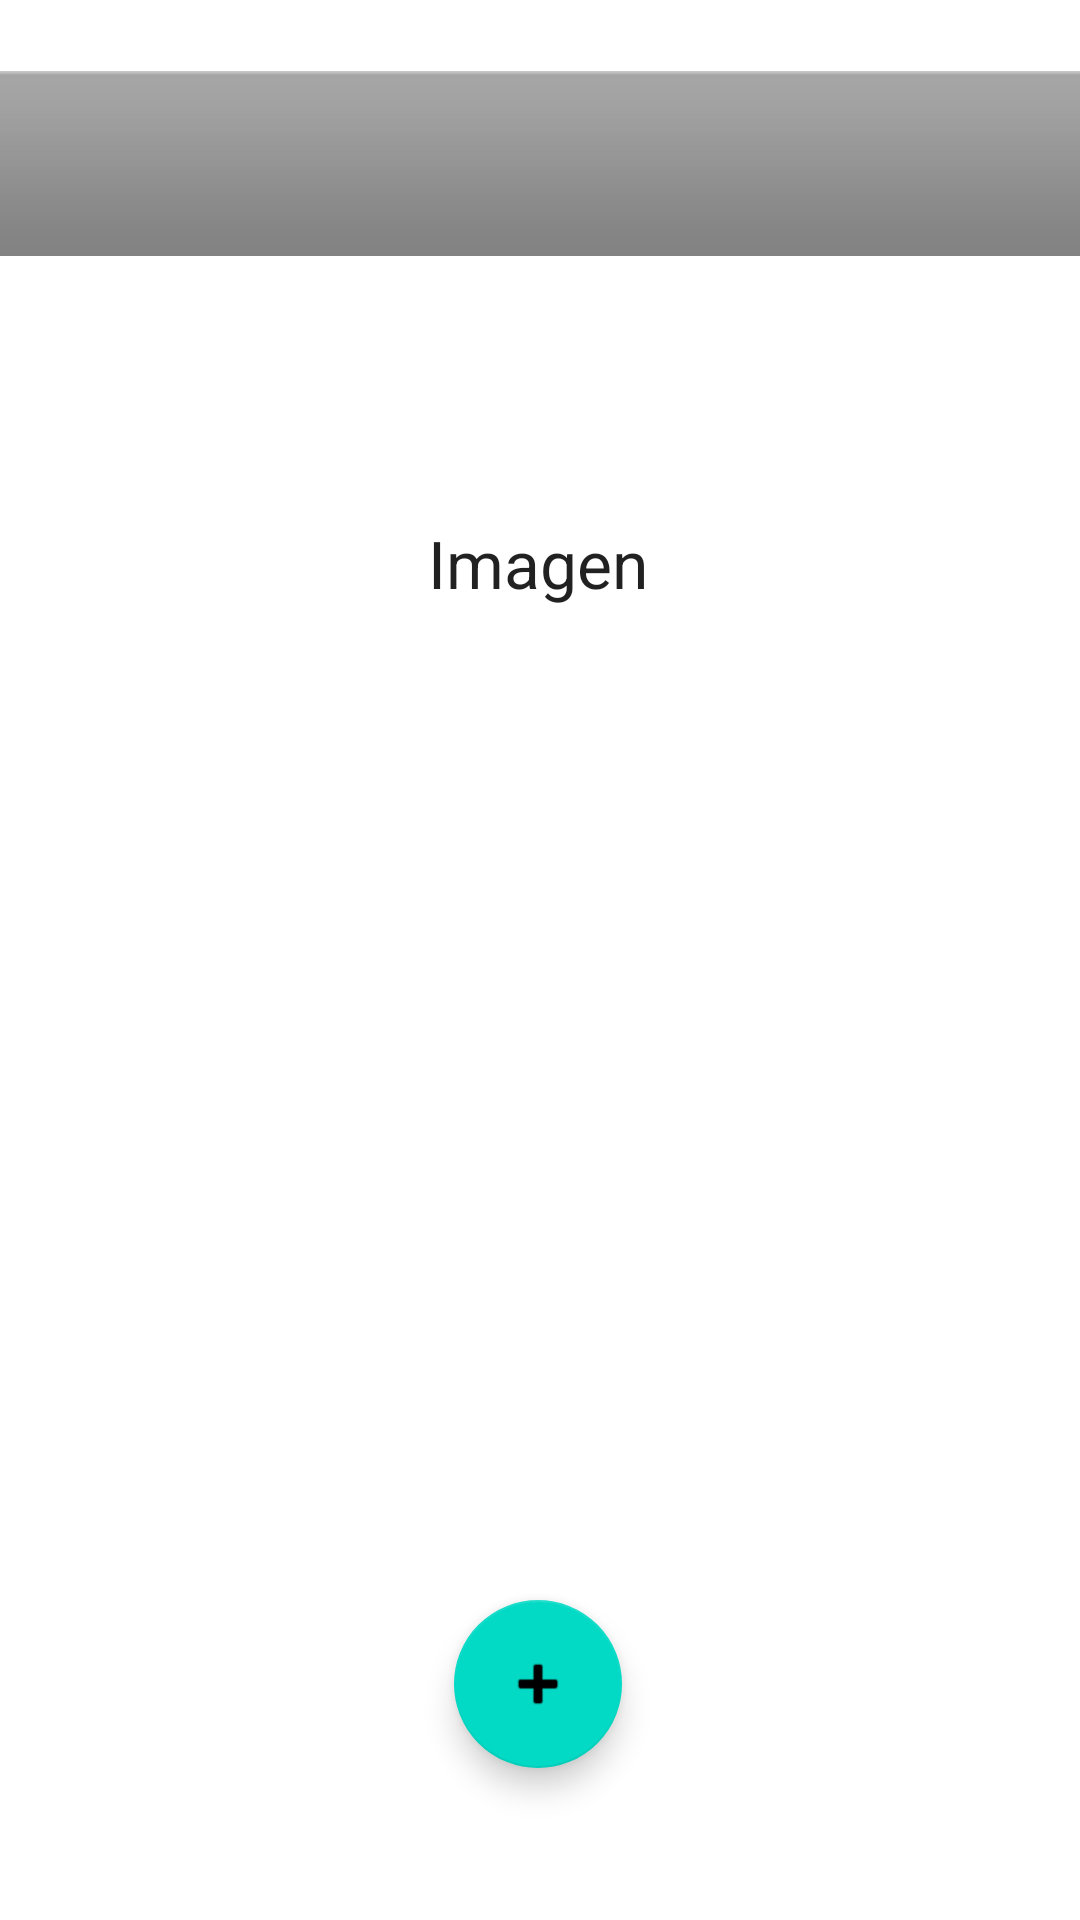

Point at icon controls on the screen. Image size 1080x1920, points as (x=x, y=y).
add: (x=538, y=1684)
